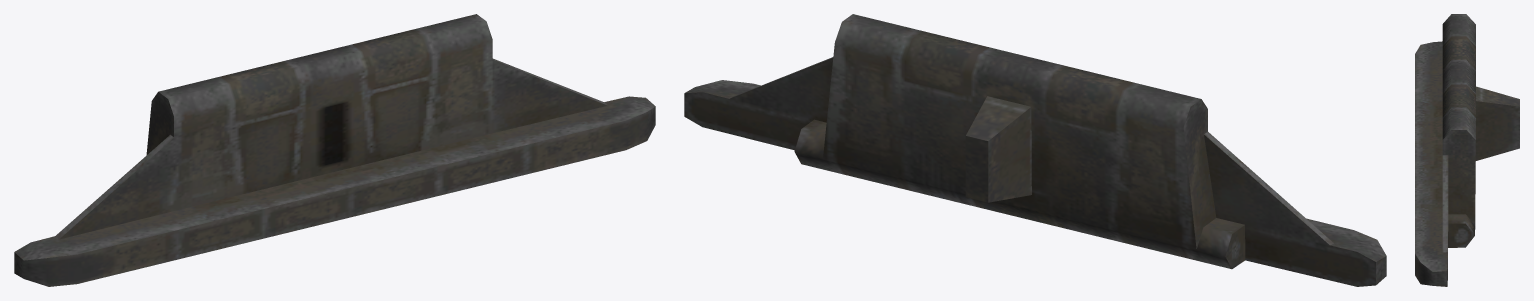
3 renders of one model, left to right at view 1: azimuth 30°, elevation 25°; view 2: azimuth 150°, elevation 25°; view 3: azimuth 270°, elevation 25°, orthographic. The views are drawn at different scales.
Parts seen in each view (by area): view 1: set_0_group_0; view 2: set_0_group_0; view 3: set_0_group_0.
Part boxes in pixels (x1,y1,x2,y2): set_0_group_0: [14, 14, 655, 286]; set_0_group_0: [684, 14, 1386, 286]; set_0_group_0: [1415, 14, 1519, 286].
Size of the model in its own units: 0.8202 by 0.1736 by 0.1579.
Materials: 1 (1 with a texture image).
